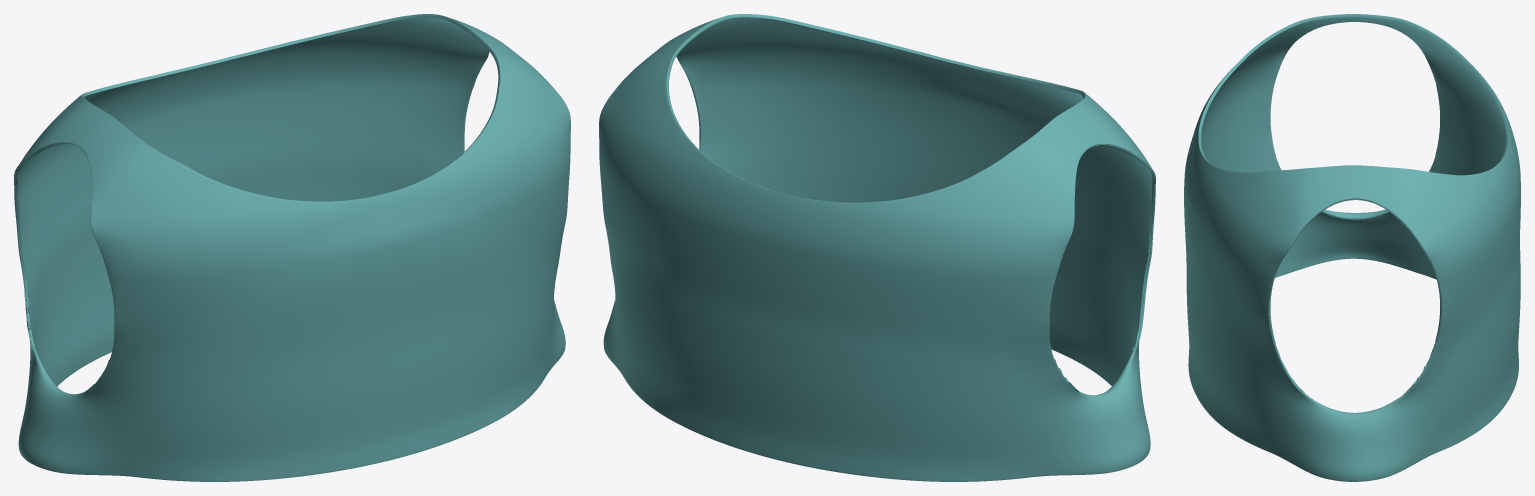
Rendered from Masculine-taper-top.glb.
The picture shows the model from 3 angles, left to right: view 1: azimuth 30°, elevation 25°; view 2: azimuth 150°, elevation 25°; view 3: azimuth 270°, elevation 25°; orthographic projection. The views are drawn at different scales.
Visible parts, largest first — view 1: Clothing / Tank189; view 2: Clothing / Tank189; view 3: Clothing / Tank189, Tank / vertical sewn armhole208 0.
Part boxes in pixels (bbox=[...]): Clothing / Tank189: bbox=[14, 14, 570, 481]; Clothing / Tank189: bbox=[599, 14, 1155, 481]; Clothing / Tank189: bbox=[1184, 14, 1520, 481]; Tank / vertical sewn armhole208 0: bbox=[1269, 199, 1441, 395].
Bounding box in the file's own units: 0.6882 × 0.4005 × 0.4366.
